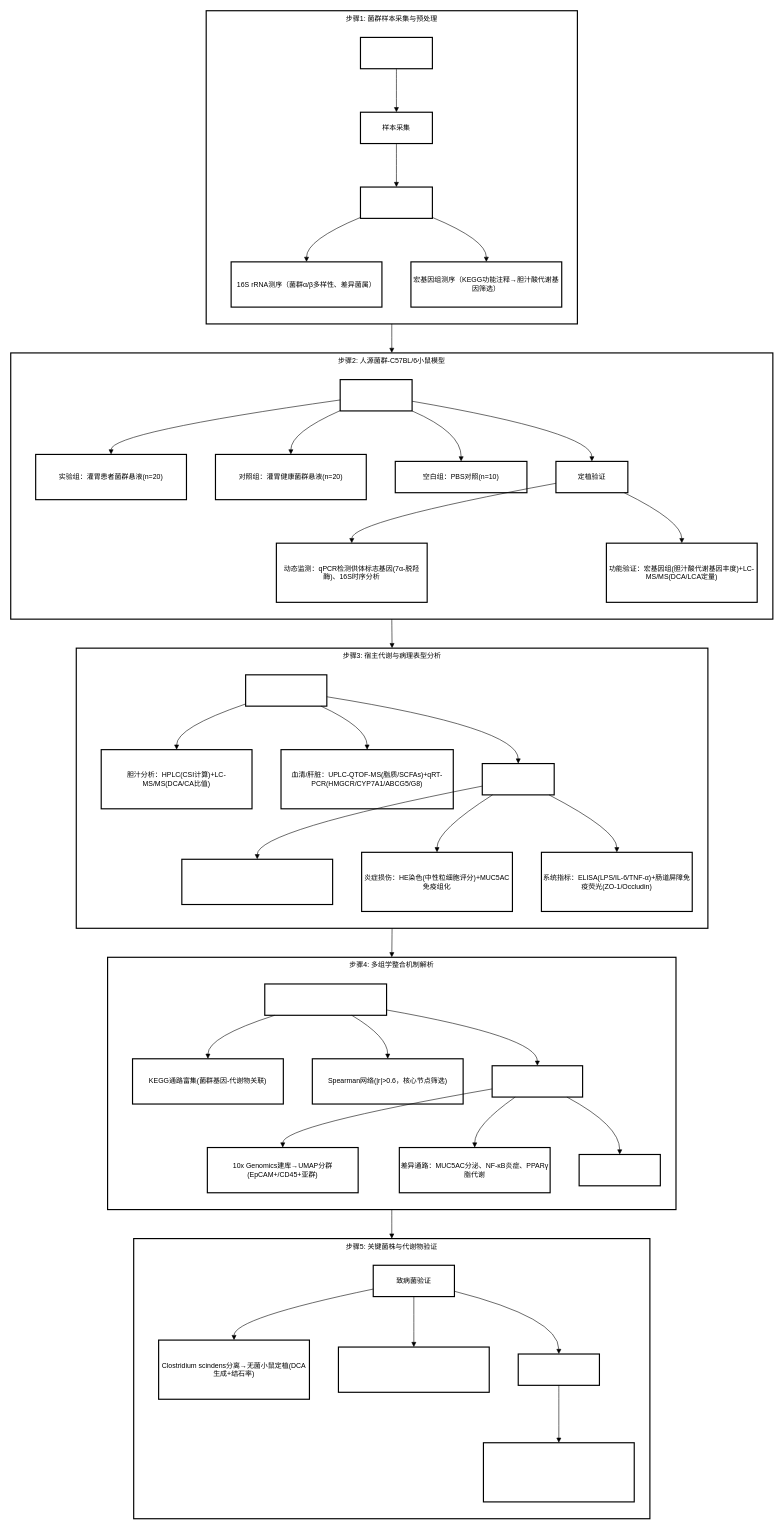
Some shapes in this 783 by 1529 pixel diagram are drawn without their labels. The shapes that lost their labels are listed below. From the top down, each one's centre as x and y in pixels, then its label:
point 396,53: 临床队列
point 396,202: 菌群分析
point 375,395: 模型构建
point 286,690: 代谢物检测
point 517,779: 病理评估
point 257,881: 胆囊结石：发生率统计+偏振光显微镜(CMC)
point 325,999: 宏基因组-代谢组关联
point 537,1081: 单细胞转录组
point 619,1170: 跨组学整合
point 414,1369: DCA回补实验：无菌小鼠灌胃(IL-6/CMC形成)
point 558,1369: 益生菌干预
point 559,1472: Faecalibacterium prausnitzii灌胃→CSI指数↓+结石抑制
